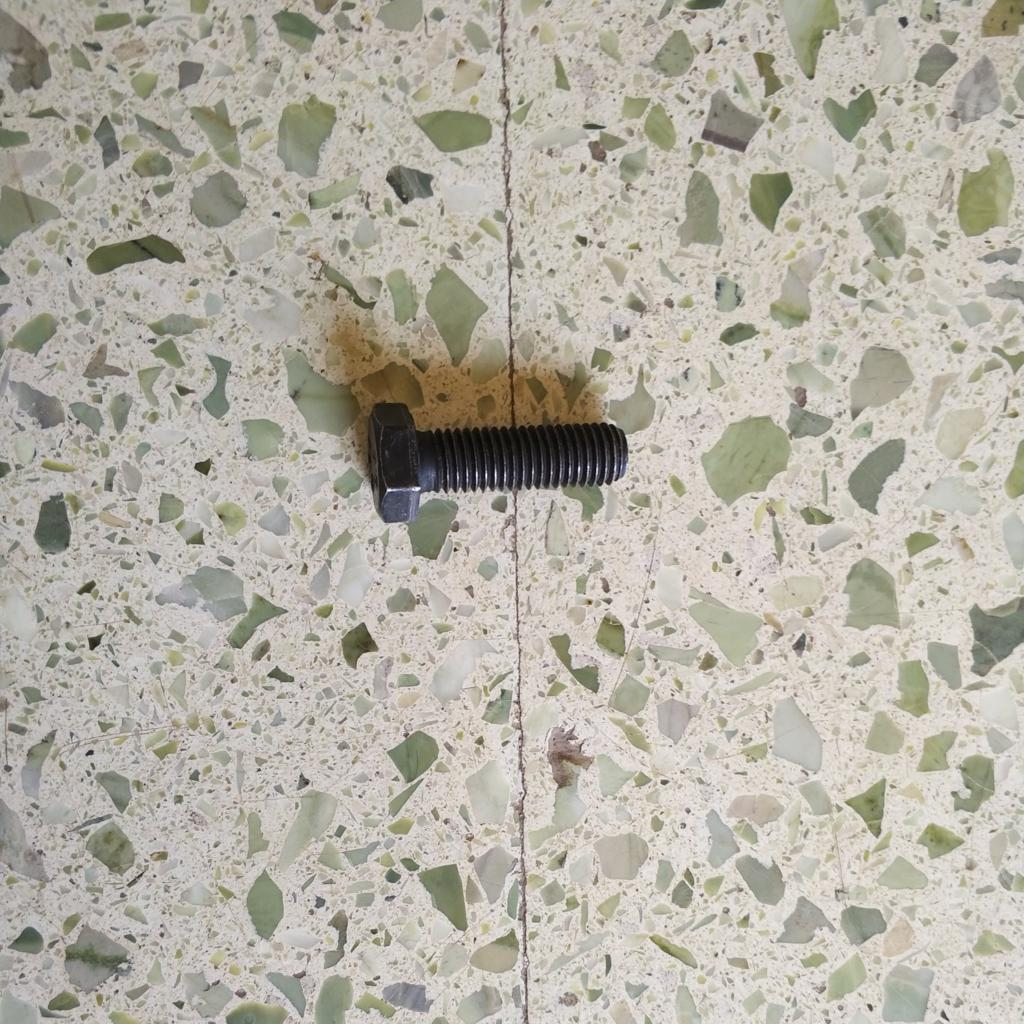screwtype2black: (367, 398, 631, 525)
